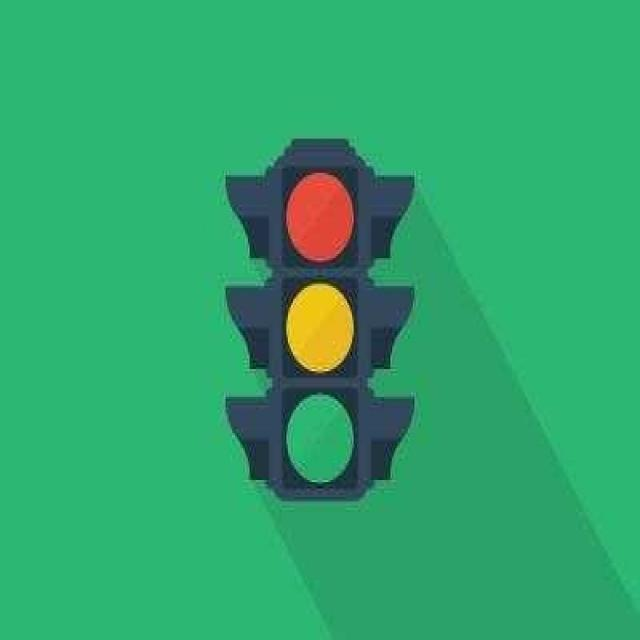red_light: (280, 384, 363, 497), (278, 275, 360, 382), (283, 165, 360, 270)
